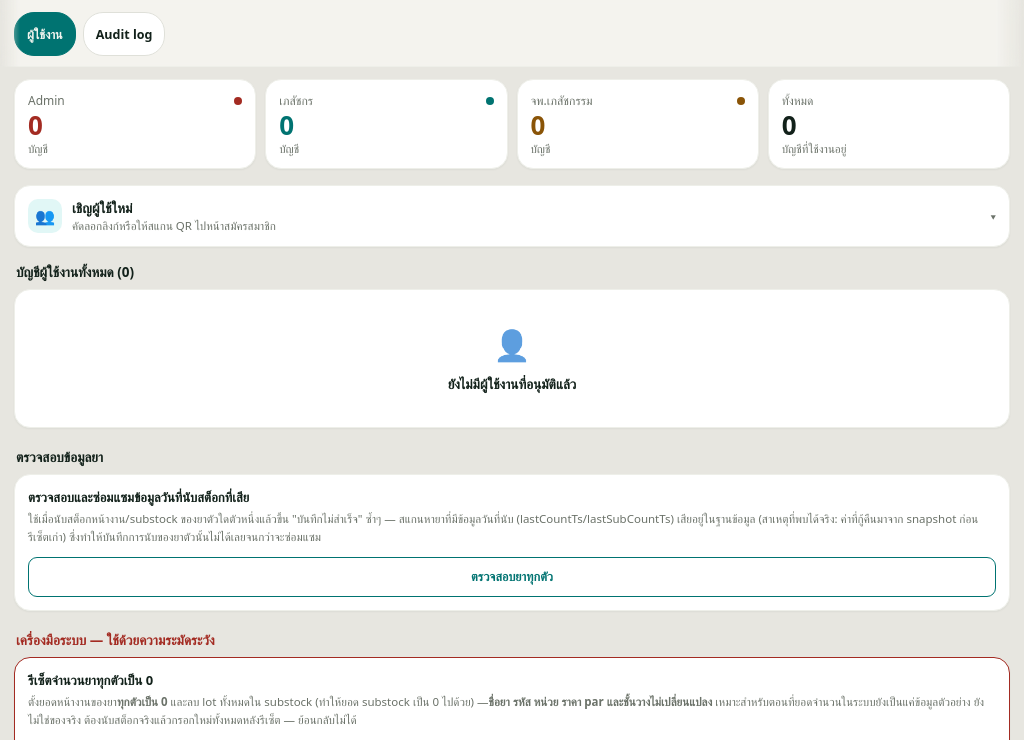
Scenario: AdminScreen — stock_drift_detected audit label regression › shows the Thai label for a stock_drift_detected entry, not the raw type string
Click the button "Audit log": (124, 34) [83,12,165,56]
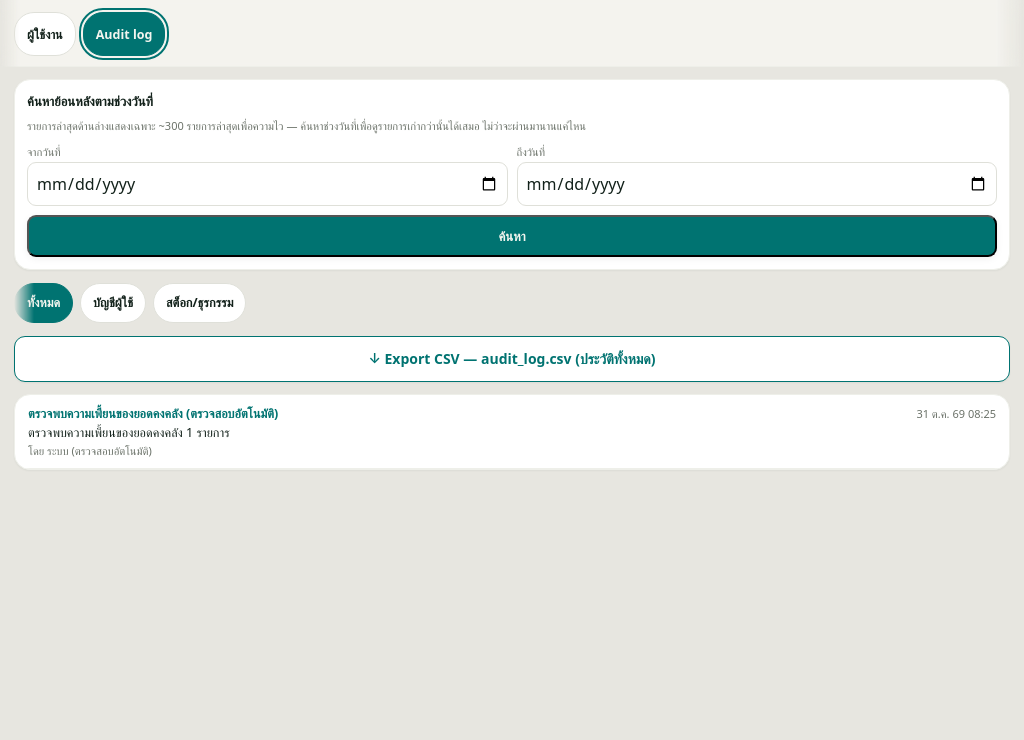
Check: the text "ตรวจพบความเพี้ยนของยอดคงคลัง (ตรวจสอบอัตโนมัติ)" is shown, box [28,404,278,422]
